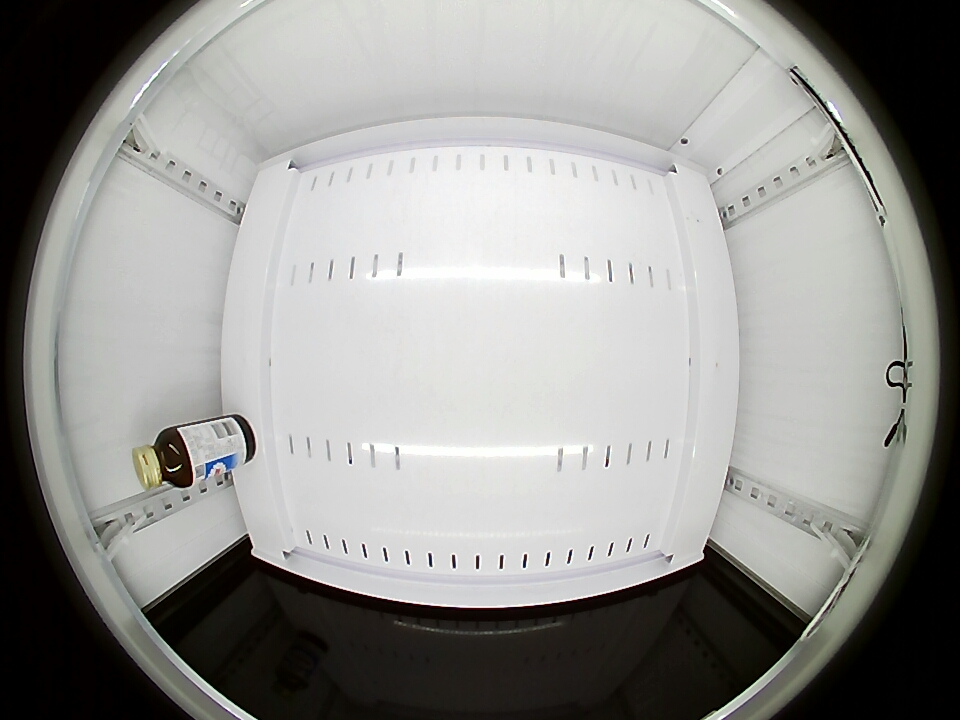libaojian: (132, 427, 195, 492)
